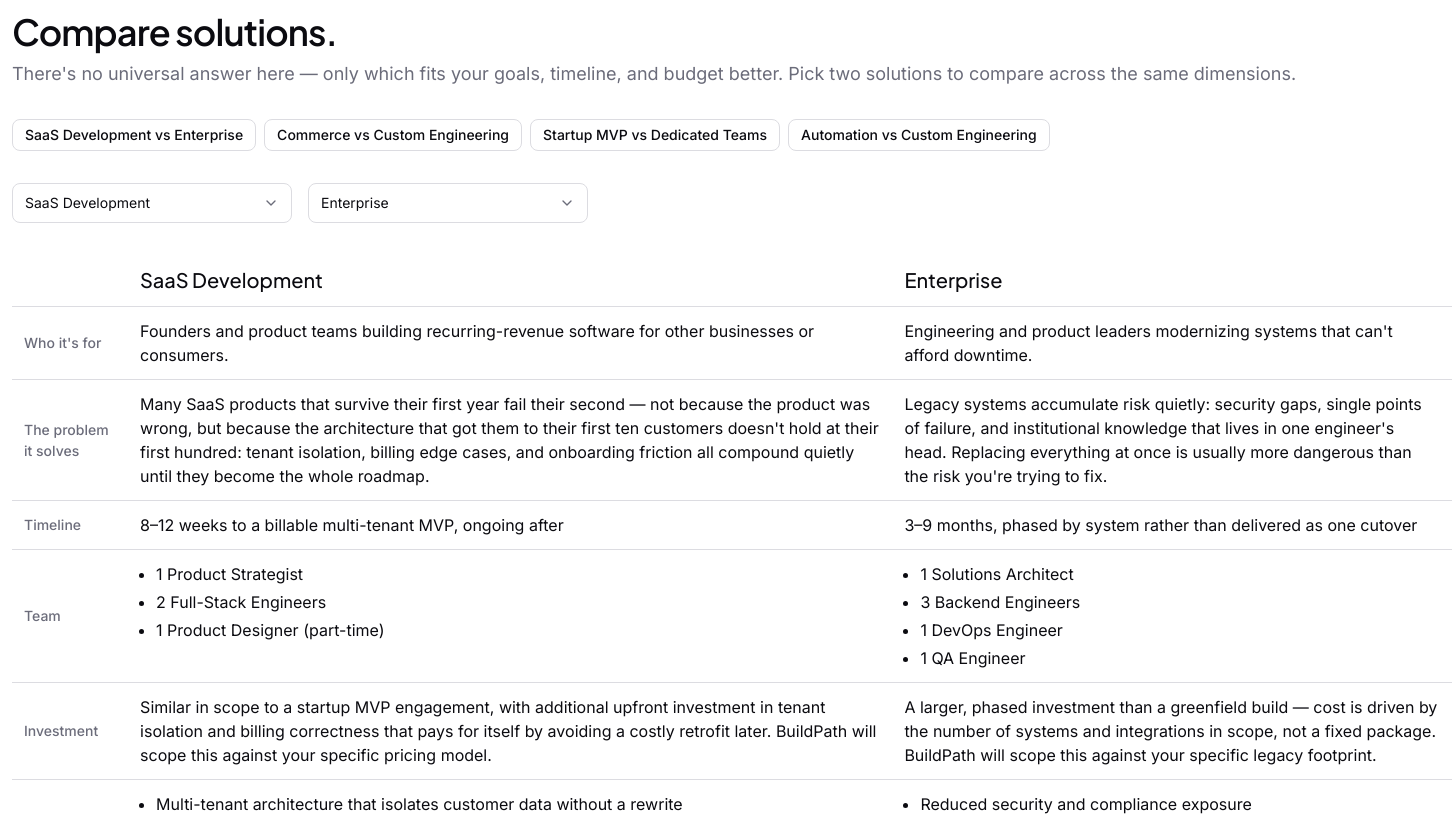
Scenario: SolutionComparisonEngine › switches to a popular comparison on click
This screenshot has width=1452, height=822.
What coordinates should you click on to do the following:
click the button "Startup MVP vs Dedicated Teams"
I would click on:
 (655, 135)
Its box is [530,119,780,151].
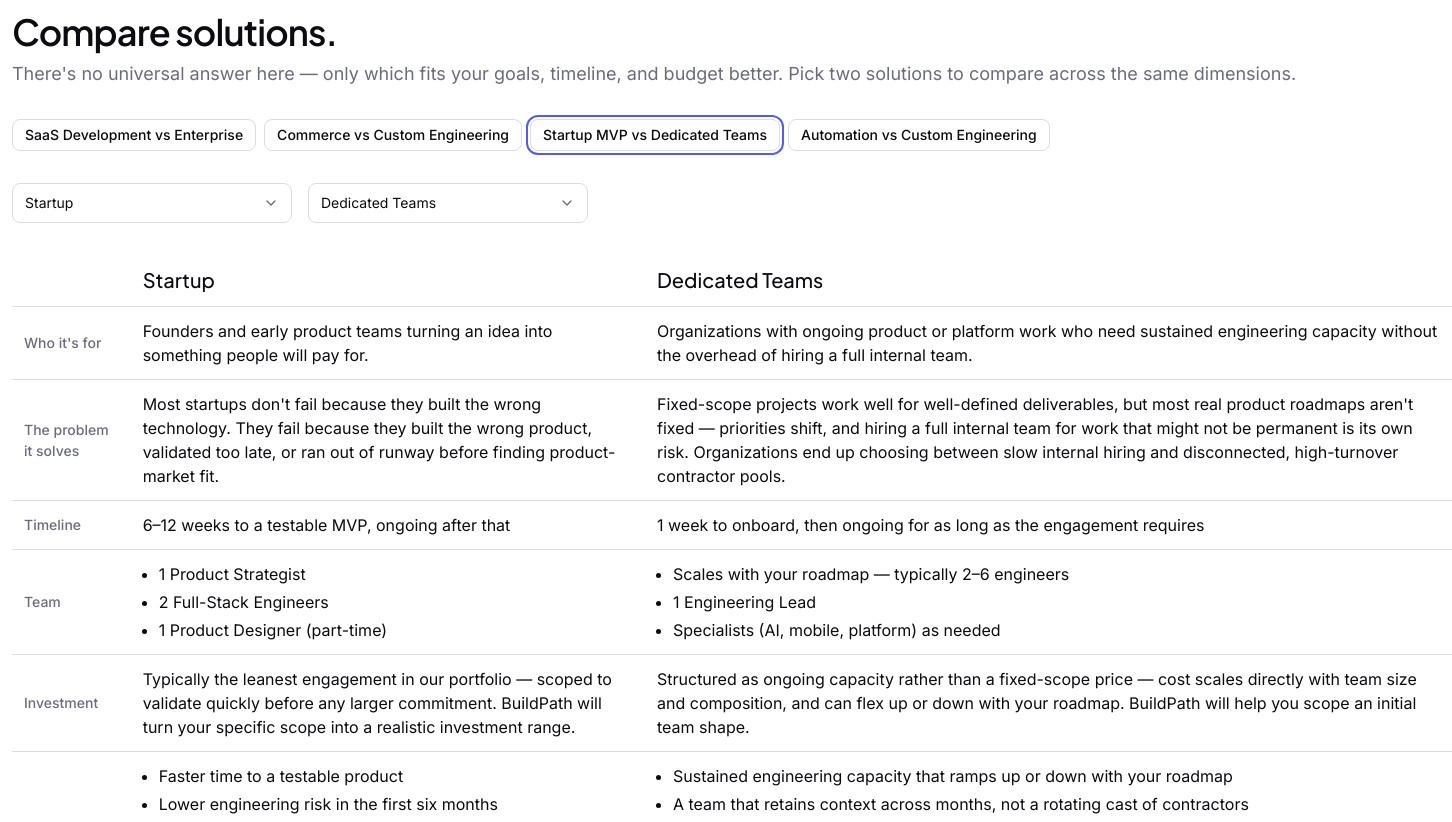
Now the link "Startup" is shown, box [143,272,215,292]
Now the link "Dedicated Teams" is shown, box [657,272,823,292]
